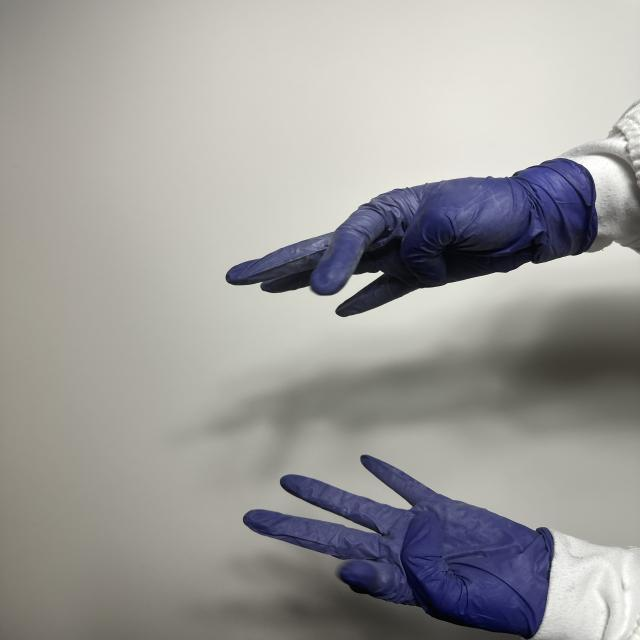gloves_contaminated: (227, 158, 598, 316), (244, 456, 554, 638)
